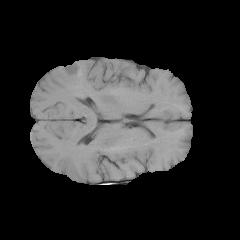glioma: (53, 61, 83, 83)
